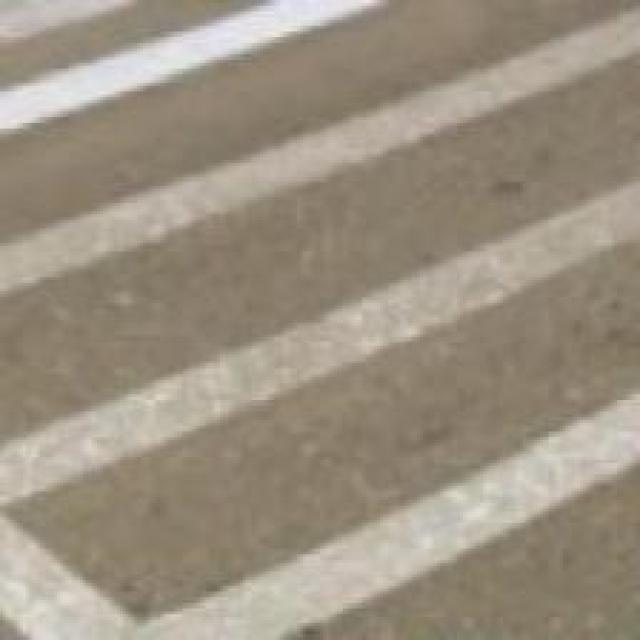zebra: (0, 2, 636, 640)
